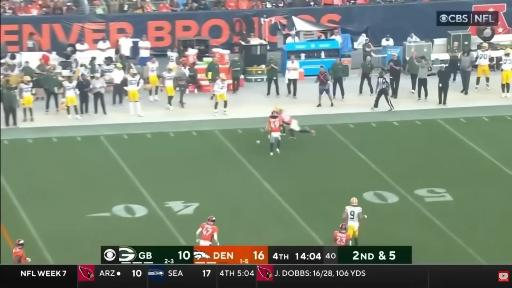Helmet: (15, 239, 24, 247), (207, 216, 216, 224), (274, 105, 282, 113), (219, 73, 227, 80), (167, 63, 176, 69), (351, 198, 358, 205), (340, 223, 346, 230), (23, 76, 31, 81), (482, 43, 488, 49), (505, 48, 511, 54), (271, 111, 278, 116), (130, 69, 137, 73)
Jersey: (201, 223, 218, 242), (346, 206, 362, 226), (127, 75, 141, 90), (334, 231, 349, 245), (63, 81, 76, 97), (13, 247, 26, 263), (19, 83, 33, 97), (214, 80, 227, 94), (268, 118, 281, 132), (477, 51, 490, 65), (167, 52, 179, 66), (147, 62, 158, 76), (163, 72, 174, 86), (280, 111, 291, 124), (103, 64, 115, 75), (502, 56, 511, 70)
Player: (275, 107, 315, 138), (343, 198, 366, 245), (62, 74, 81, 119), (125, 69, 142, 116), (19, 76, 34, 121), (476, 43, 490, 91), (267, 111, 282, 155), (161, 64, 175, 110), (197, 216, 219, 245), (214, 74, 227, 115), (147, 57, 159, 101), (501, 48, 511, 97), (13, 240, 31, 264), (334, 223, 349, 245), (167, 49, 180, 70)
